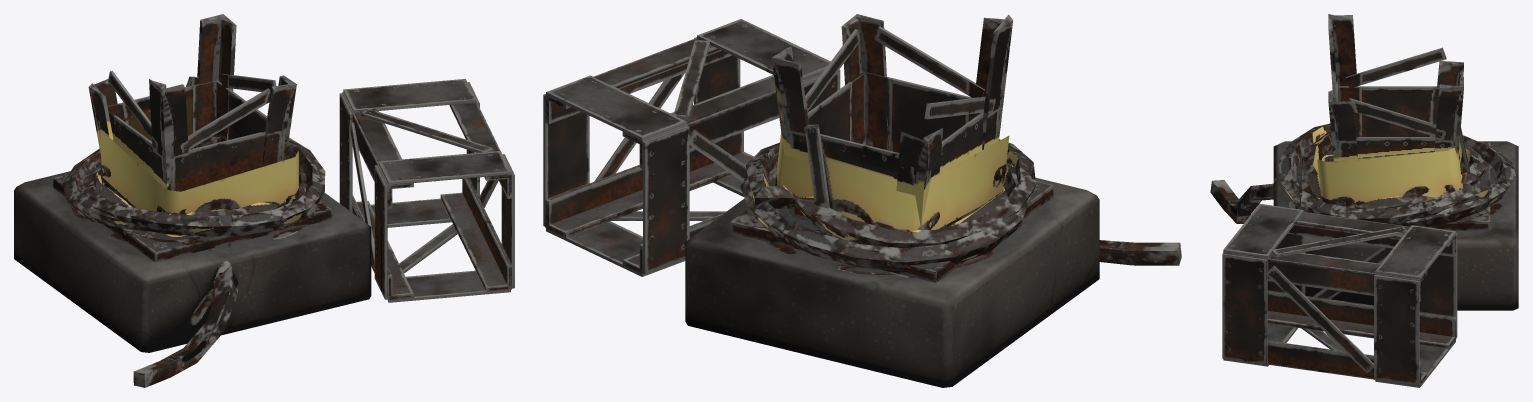
The model's file is foundry_pillar_low.glb.
The picture shows the model from 3 angles, left to right: view 1: azimuth 30°, elevation 25°; view 2: azimuth 150°, elevation 25°; view 3: azimuth 270°, elevation 25°; orthographic projection. The views are drawn at different scales.
Visible parts, largest first — view 1: foundry_pillar_low; view 2: foundry_pillar_low; view 3: foundry_pillar_low.
Part boxes in pixels (x1,y1,x2,y2): foundry_pillar_low: [14, 14, 514, 387]; foundry_pillar_low: [543, 14, 1181, 387]; foundry_pillar_low: [1210, 14, 1518, 387].
Size of the model in its own units: 2.49 by 1.29 by 1.64.
1 material, 1 textured.
